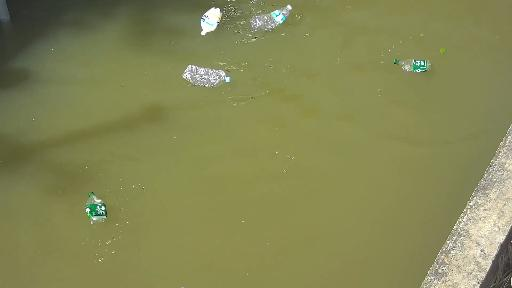leaf: (430, 45, 457, 56)
plastic: (167, 58, 238, 90), (245, 3, 297, 35), (80, 182, 112, 230), (384, 56, 450, 75), (195, 8, 237, 32)
